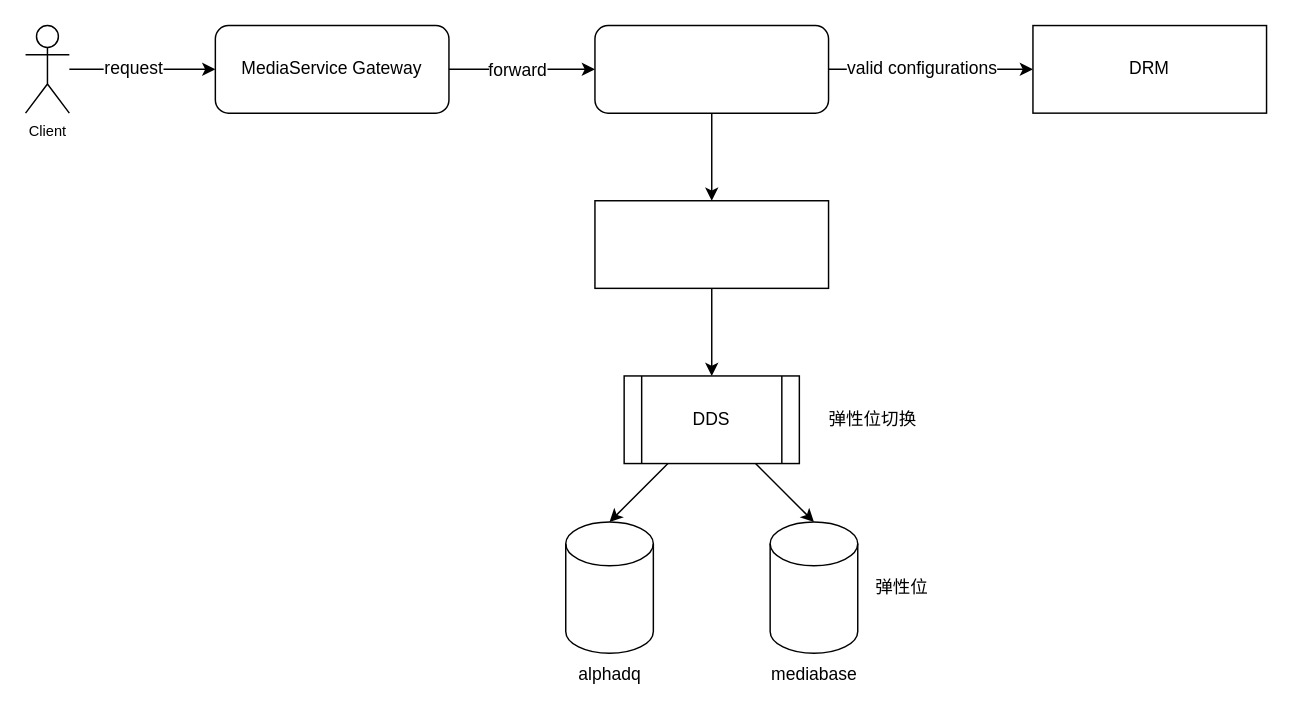
Some shapes in this 1292 by 723 pixel diagram are drawn without their labels. The centre of each missing label's shape, as x and y in pixels:
"data-accessor" belongs at point 711,243.
"MediabaseServer" belongs at point 711,68.
